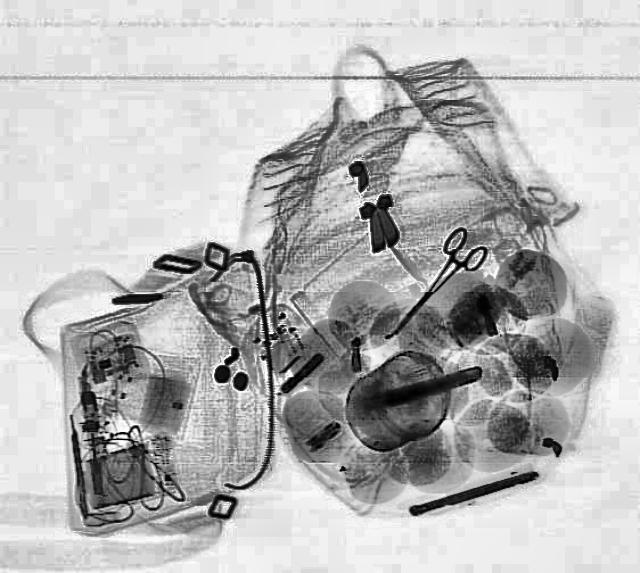Scissors: (368, 224, 496, 348)
